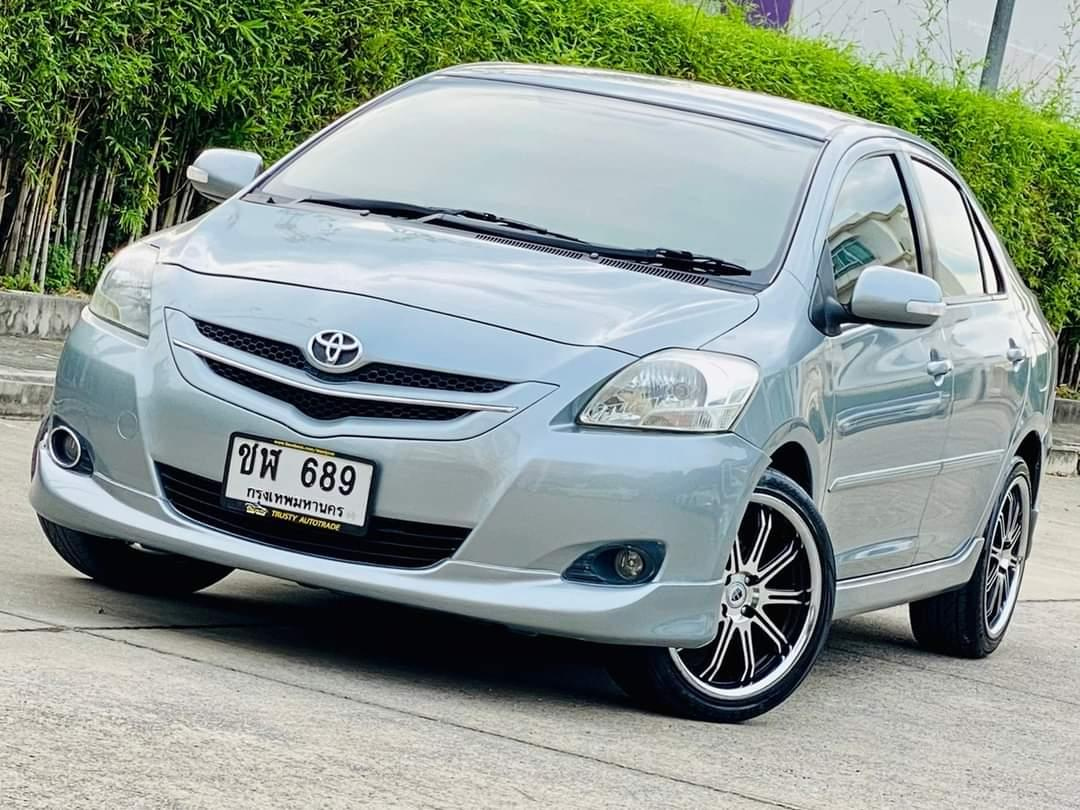license-plate: (217, 426, 384, 547)
